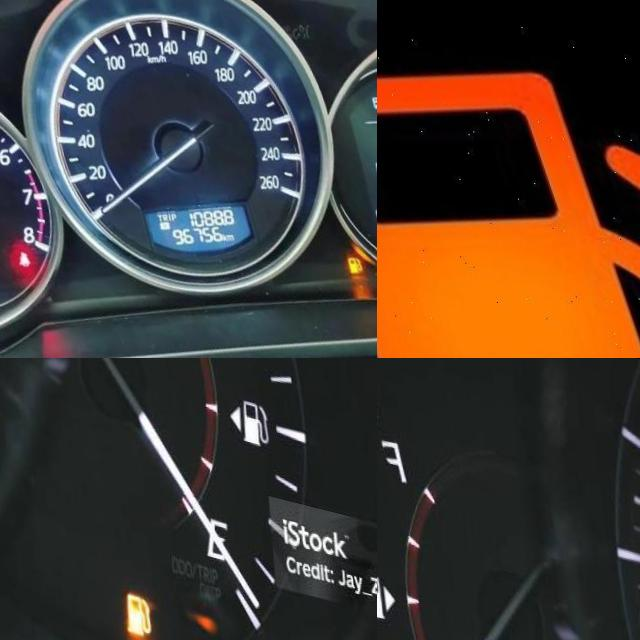Seat Belt: (8, 241, 23, 261)
